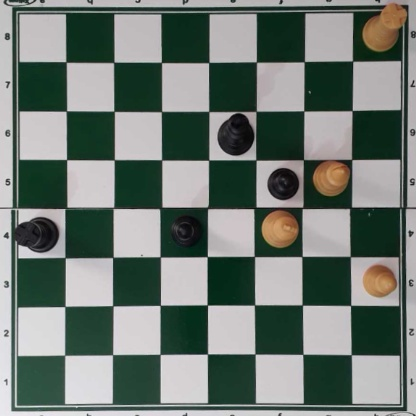black-king: (216, 112, 255, 155)
black-pawn: (170, 215, 204, 249), (267, 165, 299, 200)
black-rook: (15, 214, 59, 253)
white-bishop: (311, 159, 350, 198)
white-king: (262, 208, 298, 248)
white-pawn: (361, 262, 397, 298)
white-rook: (361, 1, 409, 51)
